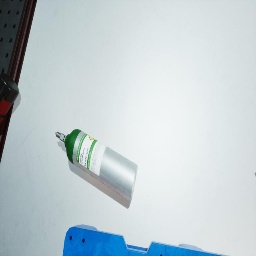0: (55, 129, 138, 202)
FireExtinguisher ]: (0, 73, 19, 125)
